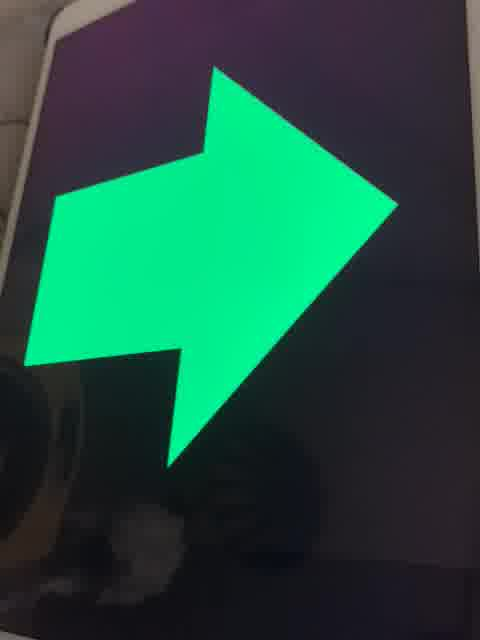right: (20, 51, 403, 478)
